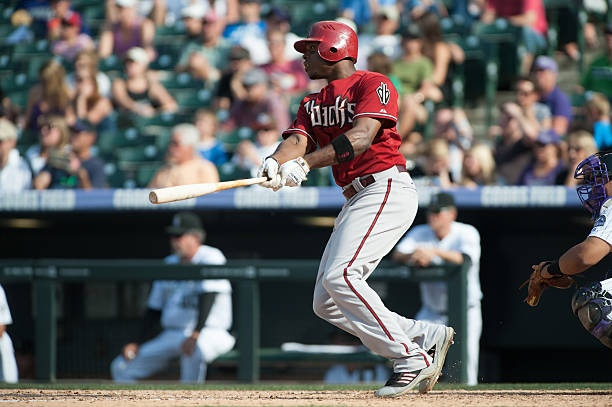bita: (149, 170, 302, 210)
